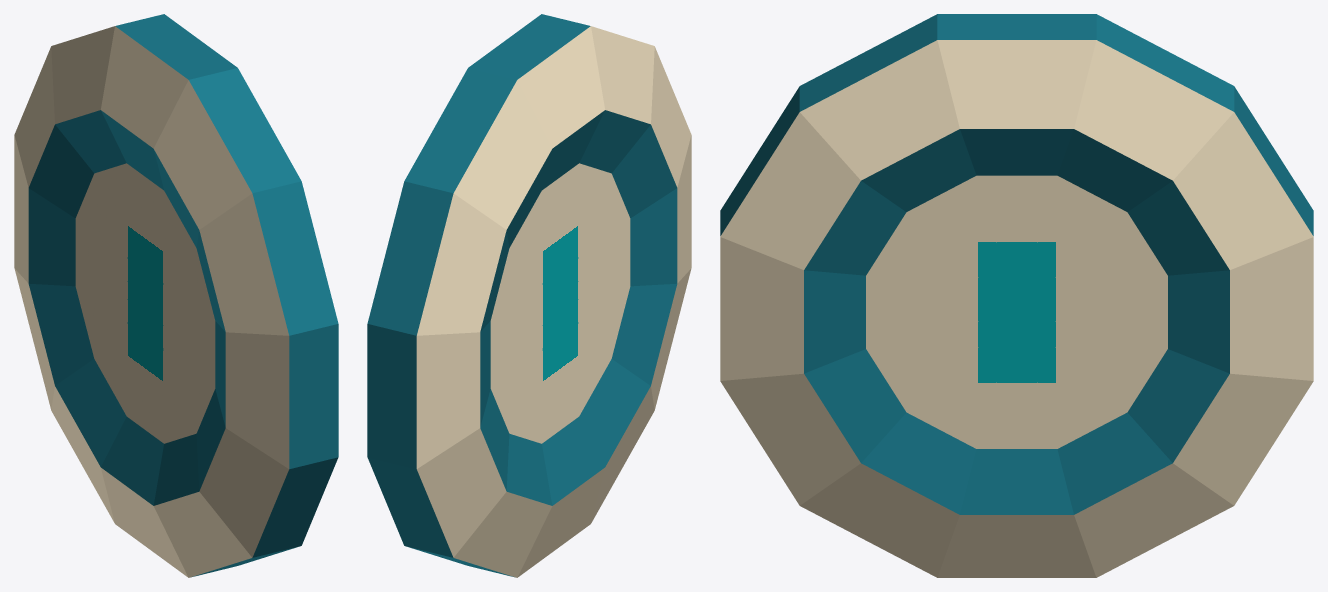
File: Coin.gltf
The picture shows the model from 3 angles, left to right: view 1: azimuth 30°, elevation 25°; view 2: azimuth 150°, elevation 25°; view 3: azimuth 270°, elevation 25°; orthographic projection. The views are drawn at different scales.
Visible parts, largest first — view 1: torus, cylinder; view 2: torus, cylinder; view 3: torus, cylinder.
Part boxes in pixels (box(x1,y1,x2,y2)): torus: box(14, 14, 338, 577); cylinder: box(75, 163, 215, 443); torus: box(367, 14, 691, 577); cylinder: box(490, 163, 630, 443); torus: box(720, 14, 1313, 577); cylinder: box(866, 175, 1167, 448).
Bounding box in the file's own units: 0.1985 × 0.9581 × 0.9581.
Materials: 1 (1 with a texture image).
